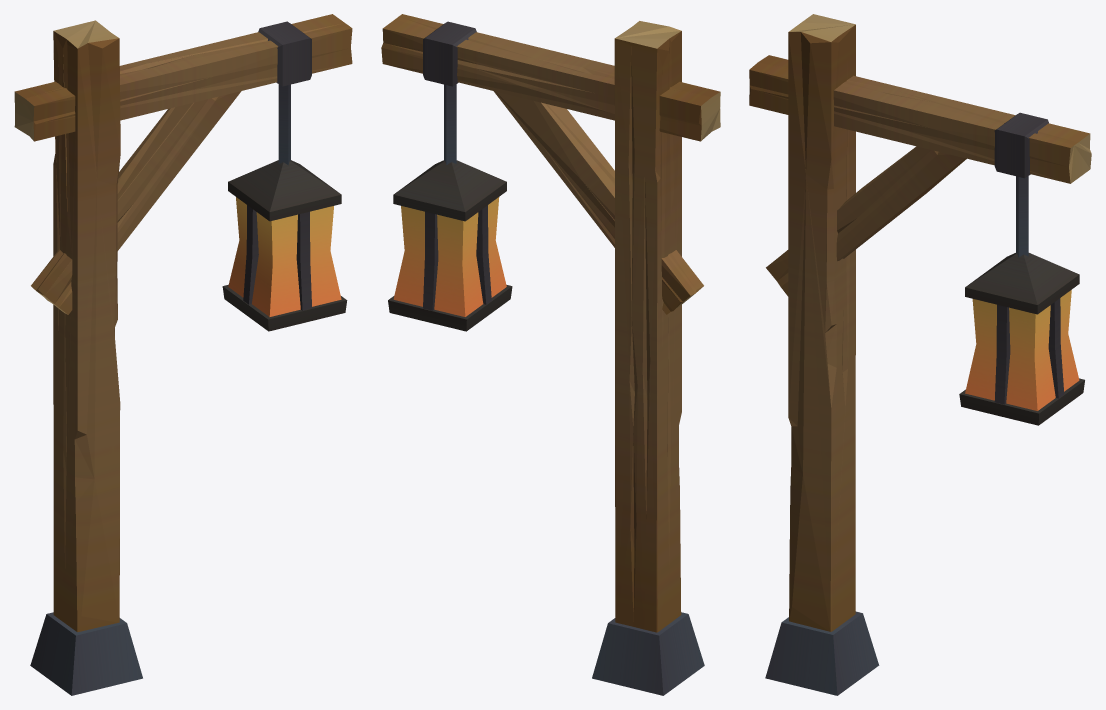
Rendered from Lamp_2.fbx.
3 renders of one model, left to right at view 1: azimuth 30°, elevation 25°; view 2: azimuth 150°, elevation 25°; view 3: azimuth 330°, elevation 25°, orthographic.
Visible parts, largest first — view 1: polySurface9694; view 2: polySurface9694; view 3: polySurface9694.
Boxes of the visible parts, x1,y1,x2,y2 form: polySurface9694: (14, 14, 352, 695); polySurface9694: (381, 14, 720, 695); polySurface9694: (749, 14, 1091, 695).
Bounding box in the file's own units: 188 × 358 × 46.33.
